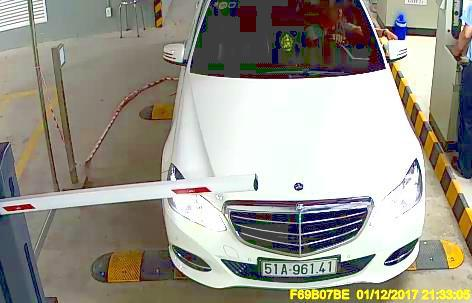License_Plate: (257, 255, 340, 279)
